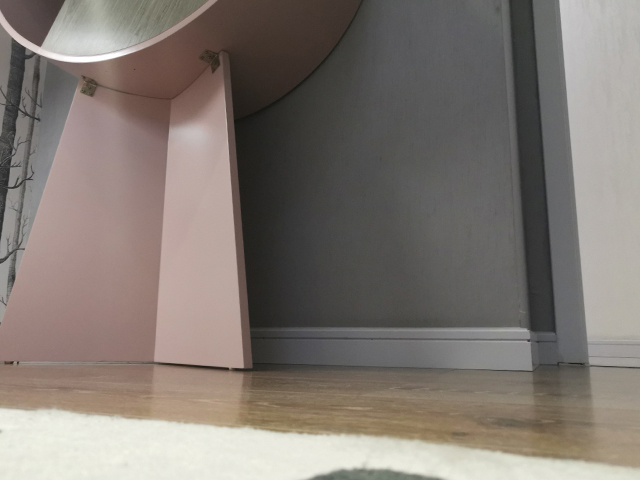carpet: (1, 404, 640, 479)
